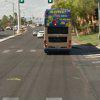Bus: (40, 4, 78, 55)
